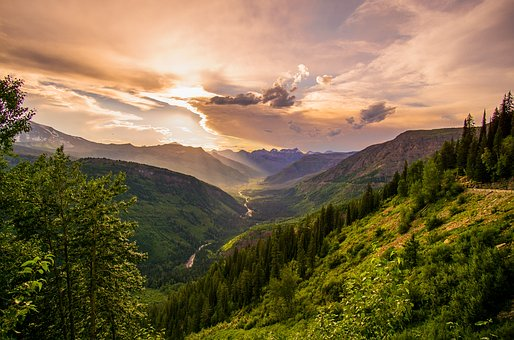forest: (180, 195, 514, 336)
sky: (2, 2, 510, 141)
tree: (12, 161, 140, 340)
